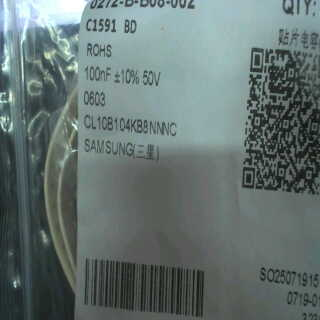100nF: (82, 61, 114, 84)
